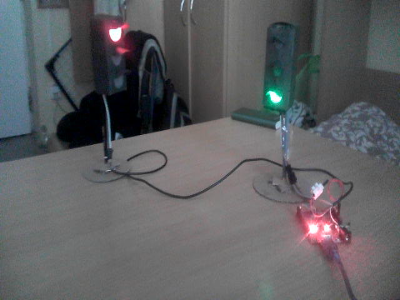trafficlight_green: (263, 26, 289, 106)
trafficlight_red: (104, 18, 128, 92)
